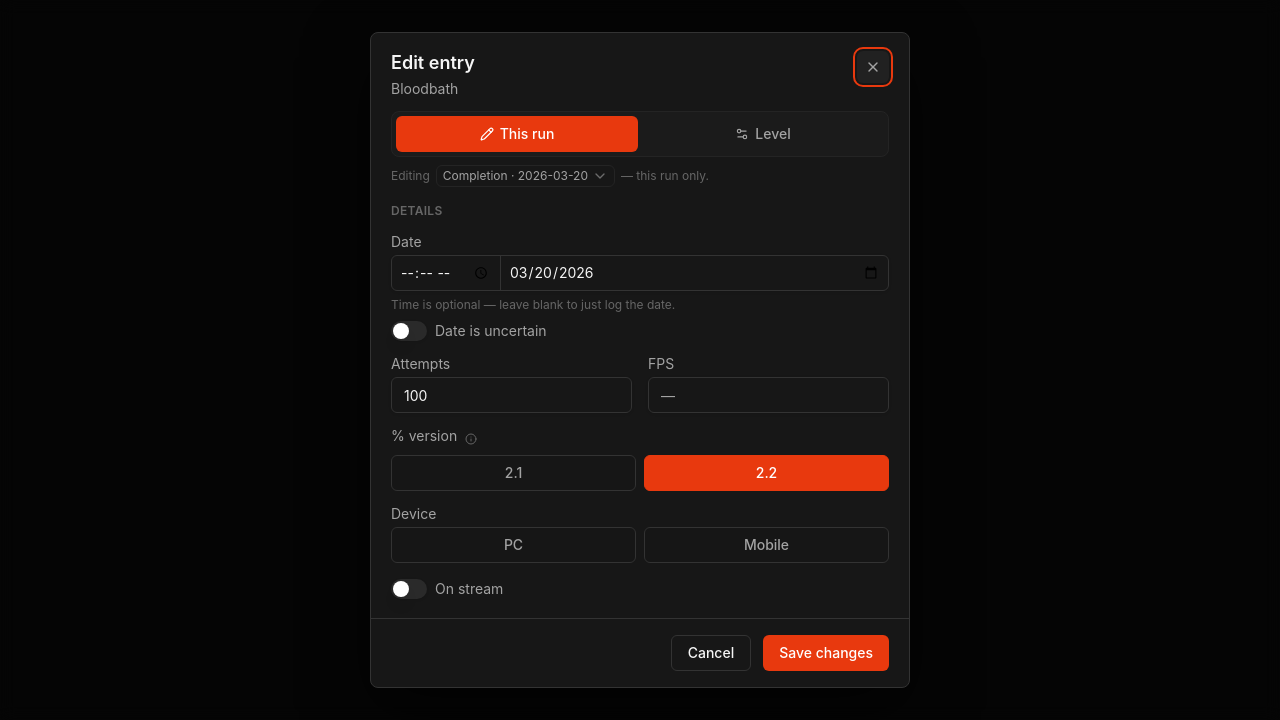
EditEntryModal › swaps the panel when the other tab is chosen
What coordinates should you click on to do the following:
click the tab "Level"
I would click on:
 (763, 134)
Its box is x1=642 y1=116 x2=884 y2=152.
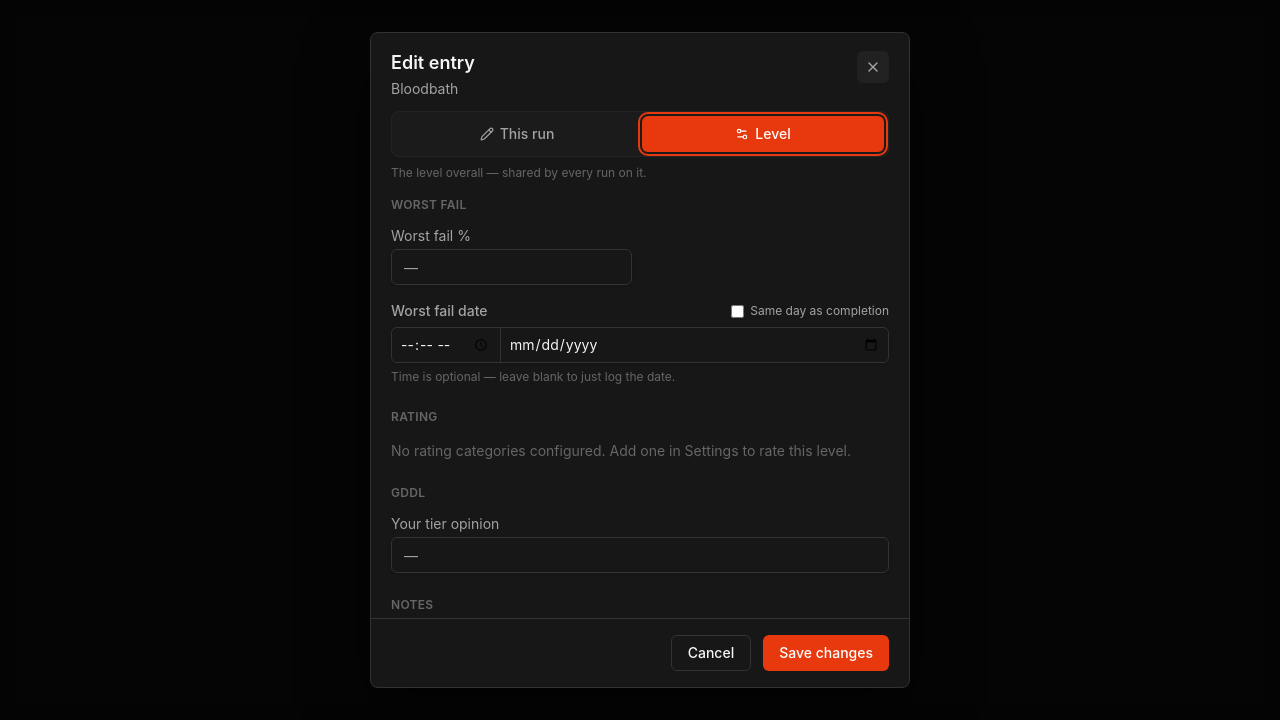
Check: the field labelled "Worst fail %" is shown, box x1=391 y1=249 x2=632 y2=285
Check: the dropdown is gone
